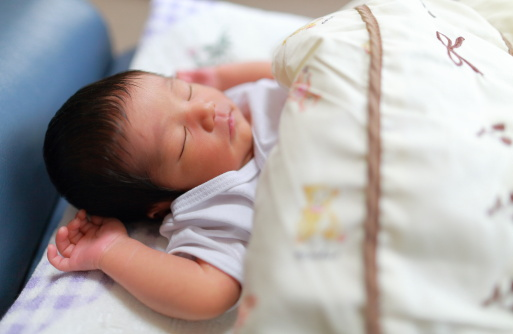deitado: (32, 17, 395, 334)
